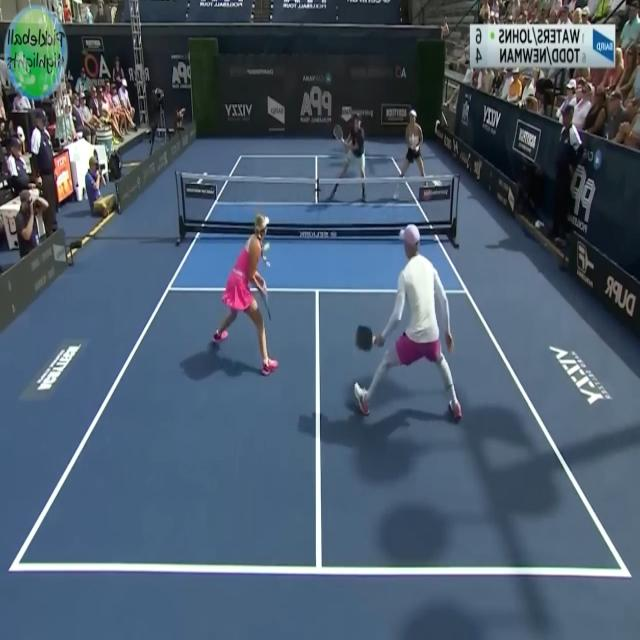Pickleball: (263, 239, 272, 255)
